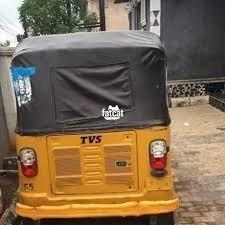keke: (7, 32, 178, 224)
